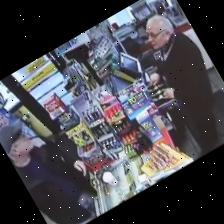person: (146, 15, 219, 156), (0, 120, 96, 223)
